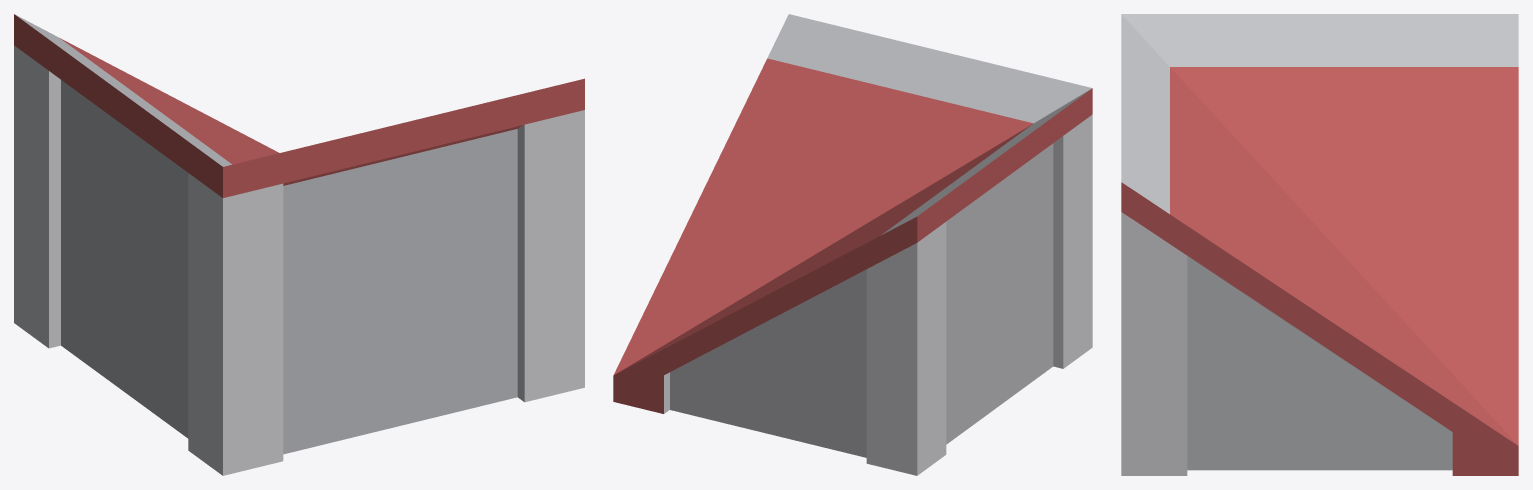
The model's file is Roof_Inner_Corner_Red_01.obj.
The picture shows the model from 3 angles, left to right: view 1: azimuth 30°, elevation 25°; view 2: azimuth 150°, elevation 25°; view 3: azimuth 270°, elevation 25°; orthographic projection. The views are drawn at different scales.
Parts seen in each view (by area): view 1: Mesh1_Roof_Inner_Corner_Red_Model; view 2: Mesh1_Roof_Inner_Corner_Red_Model; view 3: Mesh1_Roof_Inner_Corner_Red_Model.
Boxes of the visible parts, left/top/right/bottom form: Mesh1_Roof_Inner_Corner_Red_Model: left=14, top=14, right=584, bottom=475; Mesh1_Roof_Inner_Corner_Red_Model: left=613, top=14, right=1092, bottom=475; Mesh1_Roof_Inner_Corner_Red_Model: left=1121, top=14, right=1518, bottom=475.
Bounding box in the file's own units: 3 × 2.45 × 3.
